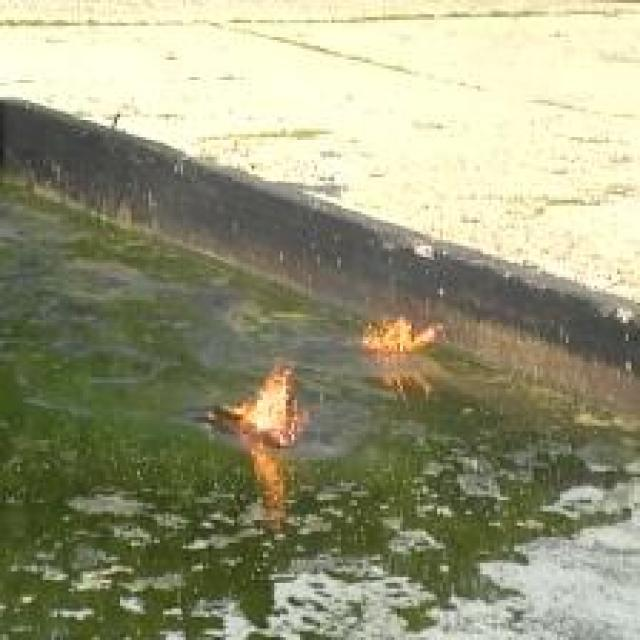Fire: (228, 359, 308, 452), (360, 317, 437, 354)
